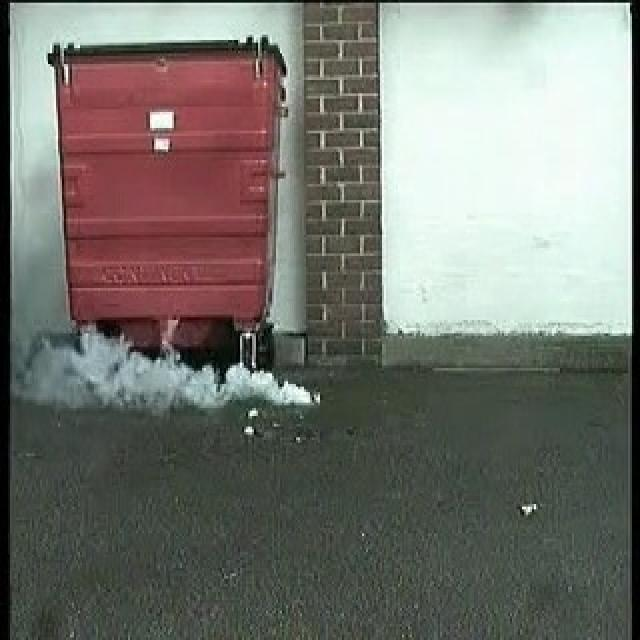Smoke: (16, 327, 311, 409)
